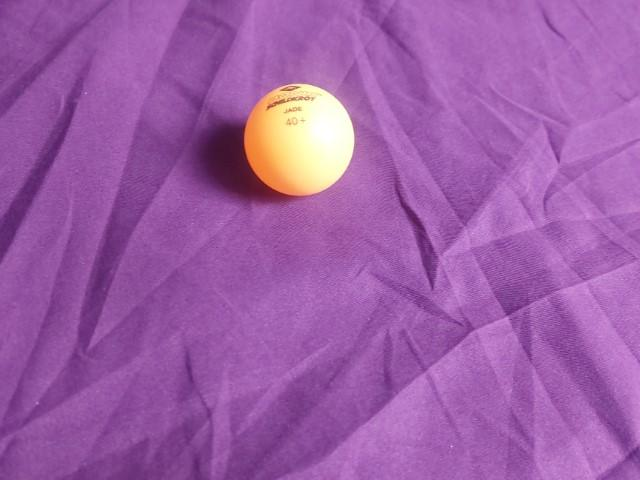oball: (236, 74, 365, 203)
